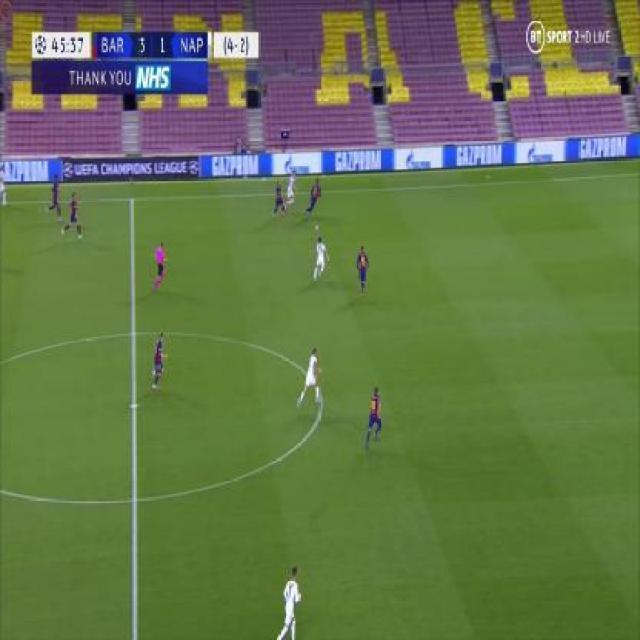ball: (314, 222, 319, 231)
player: (276, 563, 301, 640), (296, 345, 322, 411), (364, 383, 383, 449), (150, 326, 167, 391), (63, 188, 82, 241), (152, 238, 169, 292), (311, 231, 328, 282), (354, 243, 370, 297), (47, 169, 63, 220), (305, 178, 322, 217), (285, 164, 299, 209), (271, 179, 284, 219), (0, 160, 8, 203)
